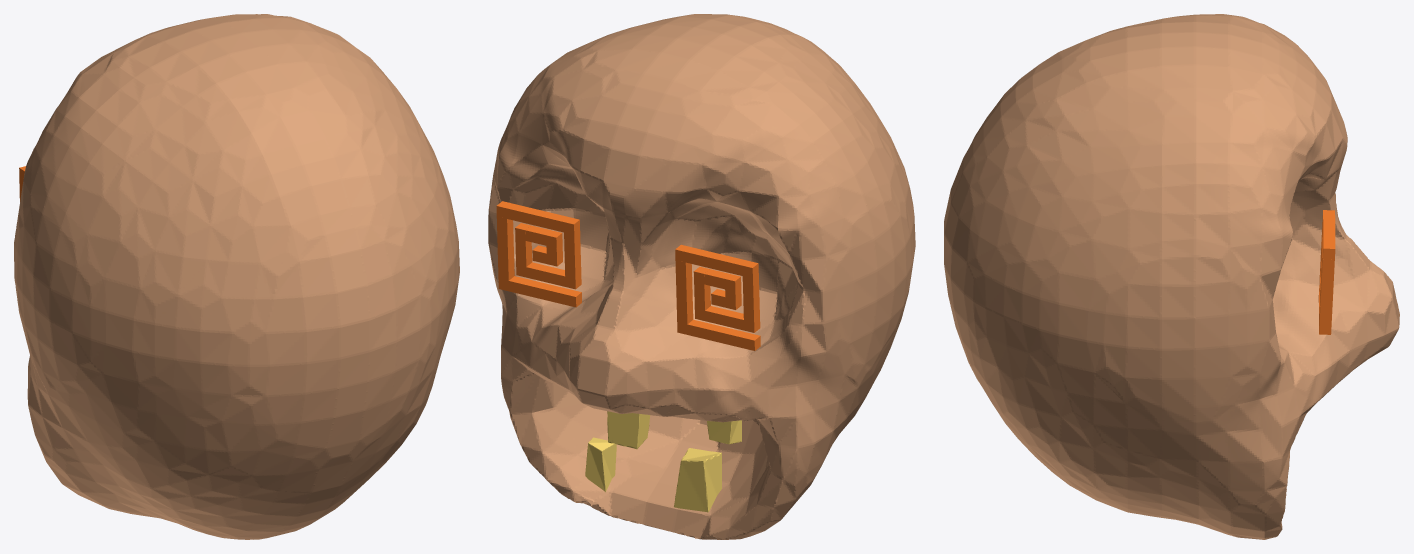
Rendered from Head_(1).fbx.
The picture shows the model from 3 angles, left to right: view 1: azimuth 30°, elevation 25°; view 2: azimuth 150°, elevation 25°; view 3: azimuth 270°, elevation 25°; orthographic projection. The views are drawn at different scales.
Visible parts, largest first — view 1: Sphere; view 2: Sphere, Cube.002, Cube.004, Cube.001, Cube.012, Cube.022, Cube.005, Cube.029, Cube, Cube.030, Cube.023, Cube.011 (+7 smaller); view 3: Sphere, Cube.023, Cube.029.
Part boxes in pixels (x1,y1,x2,y2): Sphere: (14, 14, 459, 539); Sphere: (488, 14, 915, 539); Cube.002: (674, 448, 721, 512); Cube.004: (607, 411, 650, 449); Cube.001: (585, 437, 616, 492); Cube.012: (687, 319, 760, 350); Cube.022: (508, 276, 581, 307); Cube.005: (675, 244, 747, 275); Cube.029: (496, 201, 569, 232); Cube: (742, 261, 760, 332); Cube.030: (563, 217, 581, 289); Cube.023: (496, 216, 514, 291); Cube.011: (675, 260, 693, 334); Sphere: (944, 14, 1399, 539); Cube.023: (1319, 257, 1334, 334); Cube.029: (1322, 215, 1335, 259).
Size of the model in its own units: 264 by 316 by 275.
23 materials, 23 textured.
